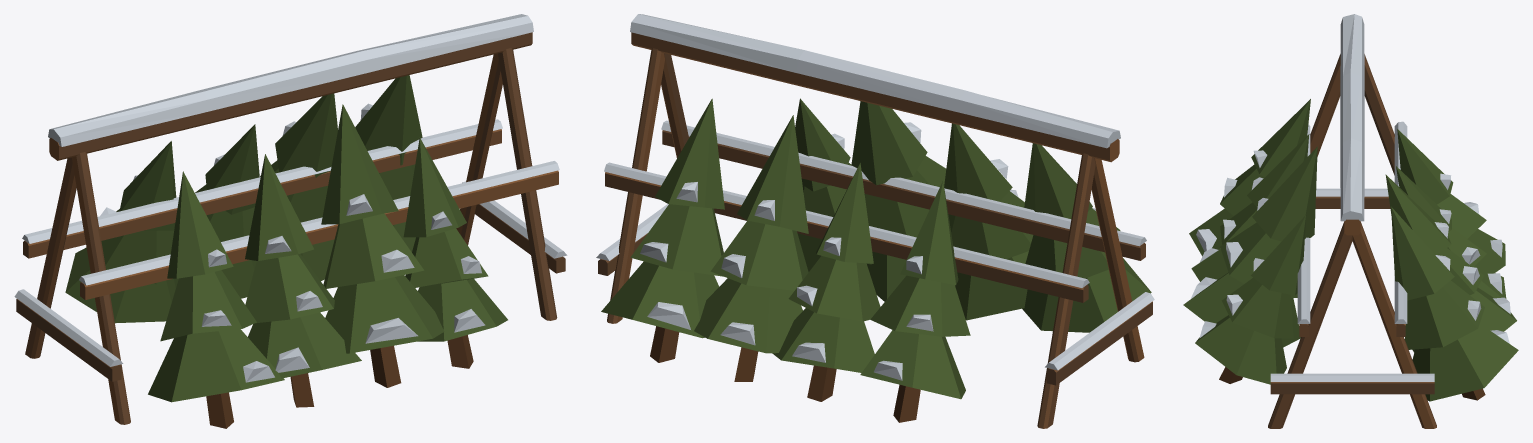
The model's file is a-frame-cut-tree-7bb743.glb.
The picture shows the model from 3 angles, left to right: view 1: azimuth 30°, elevation 25°; view 2: azimuth 150°, elevation 25°; view 3: azimuth 270°, elevation 25°; orthographic projection. The views are drawn at different scales.
Visible parts, largest first — view 1: a-frame-tree-rack-body; view 2: a-frame-tree-rack-body; view 3: a-frame-tree-rack-body.
Boxes of the visible parts, box(x1,y1,x2,y2) form: a-frame-tree-rack-body: box(14, 14, 567, 428); a-frame-tree-rack-body: box(596, 14, 1154, 428); a-frame-tree-rack-body: box(1183, 14, 1518, 428).
Size of the model in its own units: 4 by 2.17 by 2.87.
